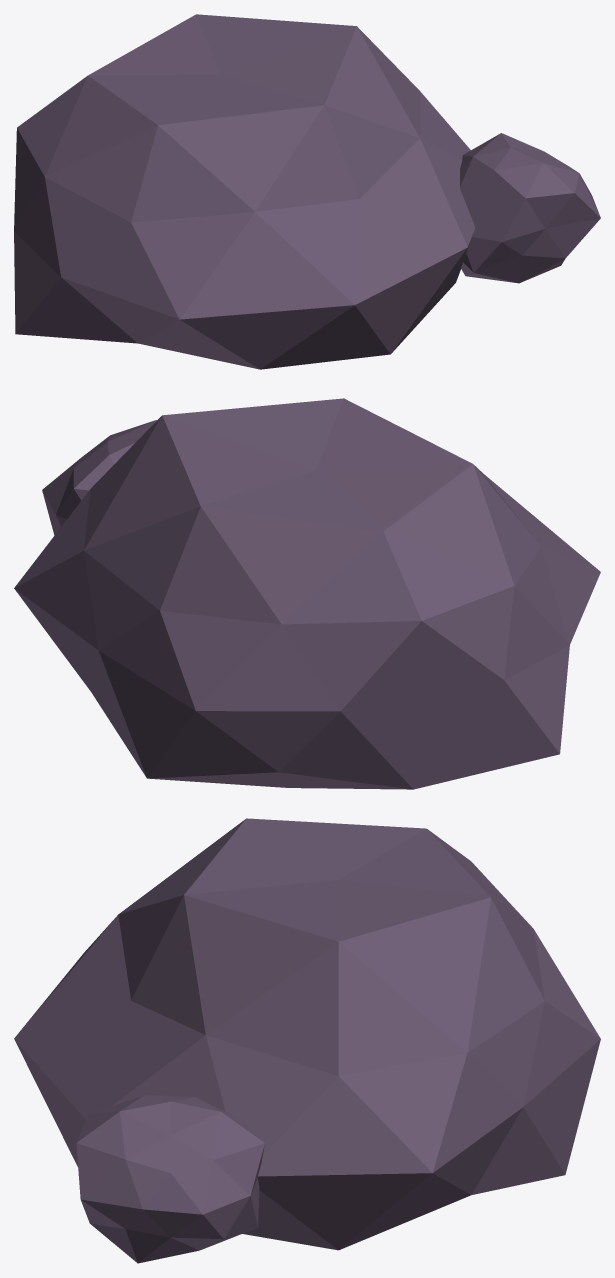
The model's file is rock_2.glb.
3 views of the same model, one above another, from view 1: azimuth 30°, elevation 25°; view 2: azimuth 150°, elevation 25°; view 3: azimuth 270°, elevation 25° (orthographic). The views are drawn at different scales.
Parts seen in each view (by area): view 1: rock_2; view 2: rock_2; view 3: rock_2.
Part boxes in pixels (x1,y1,x2,y2): rock_2: (14,14,600,369); rock_2: (14,398,600,789); rock_2: (14,818,600,1263).
Size of the model in its own units: 3.68 by 1.65 by 3.05.
